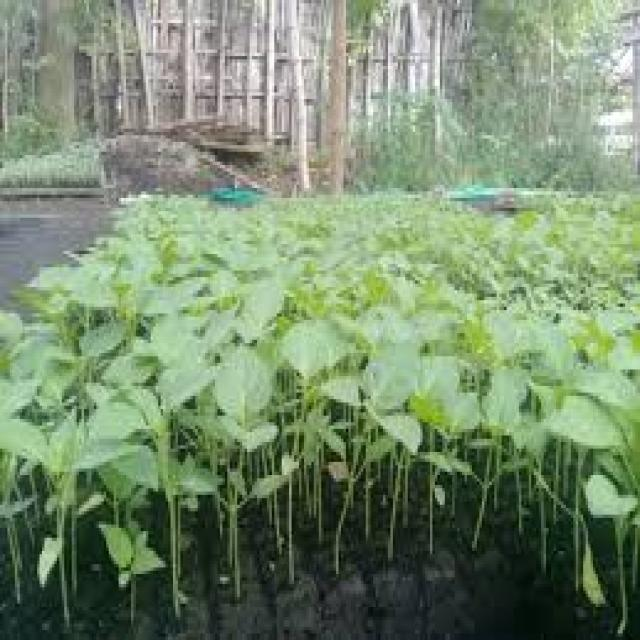Mosaic_virus: (40, 193, 640, 621)
